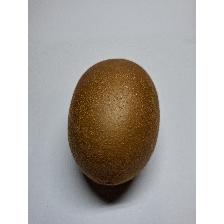Kiwi: (64, 54, 162, 188)
